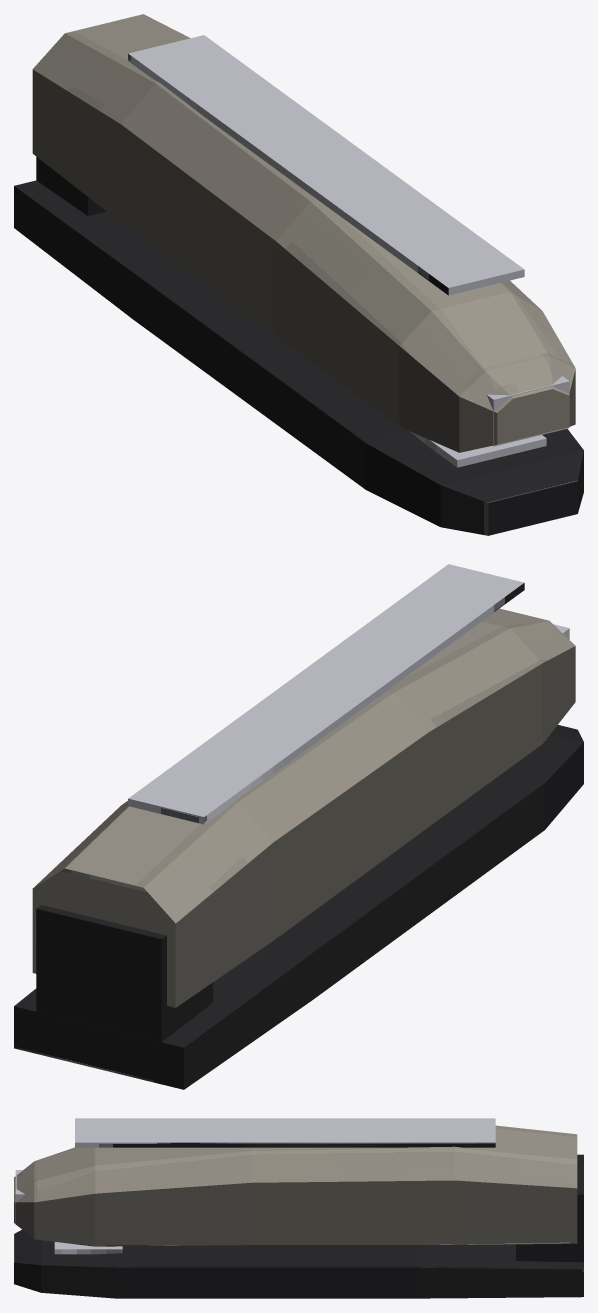
Rendered from temp_stapler.glb.
The picture shows the model from 3 angles, top to bottom: view 1: azimuth 30°, elevation 25°; view 2: azimuth 150°, elevation 25°; view 3: azimuth 270°, elevation 25°; orthographic projection. The views are drawn at different scales.
Visible parts, largest first — view 1: temp_stapler; view 2: temp_stapler; view 3: temp_stapler.
Boxes of the visible parts, left/top/right/bottom form: temp_stapler: left=14, top=14, right=583, bottom=535; temp_stapler: left=14, top=564, right=583, bottom=1089; temp_stapler: left=14, top=1118, right=583, bottom=1298.
Bounding box in the file's own units: 0.04 × 0.0453 × 0.168.
Materials: 1 (1 with a texture image).
